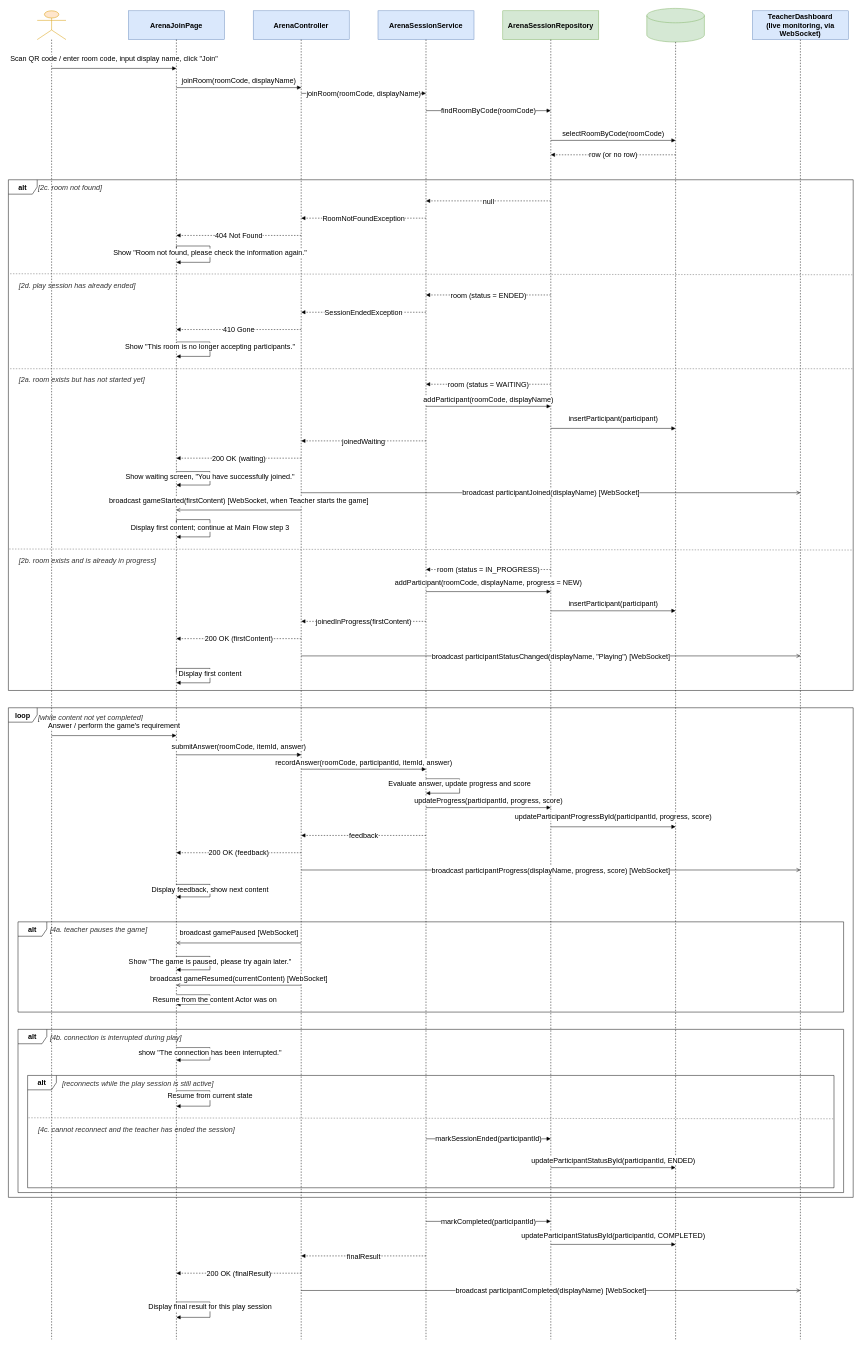
Some shapes in this 862 by 1348 pixel diagram are drawn without their labels. The shapes that lost their labels are listed below. From the top down, each one's centre as x and y in pixels, then its label:
At pixel 51 25: "Student".
At pixel 675 25: "PostgreSQL".
